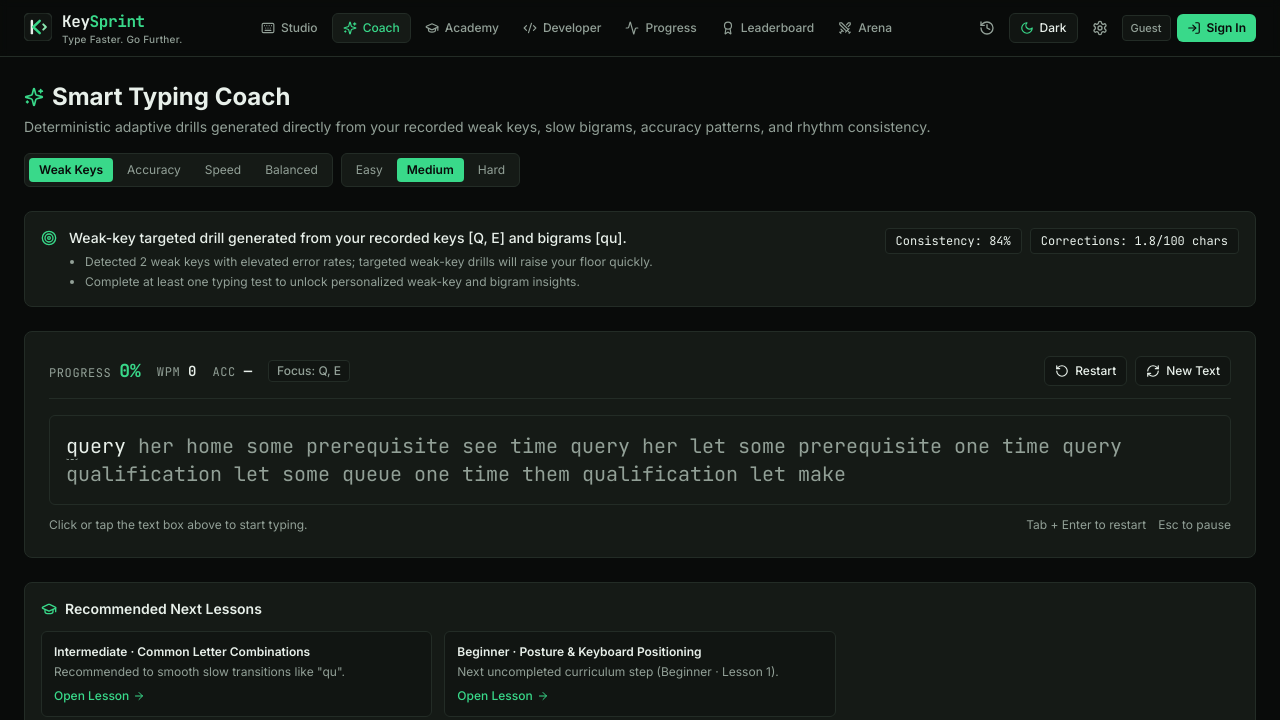
Test: Phase 4: Academy, Coach, Goals & Progress Intelligence › displays Smart Coach mode controls, common substitutions, and lesson recommendations
Expected: the button "Accuracy" is shown, [117, 158, 191, 182]
Expected: the heading "Recommended Next Lessons" is shown, [41, 600, 262, 617]
Click the button "Speed": (223, 170) [195, 158, 251, 182]
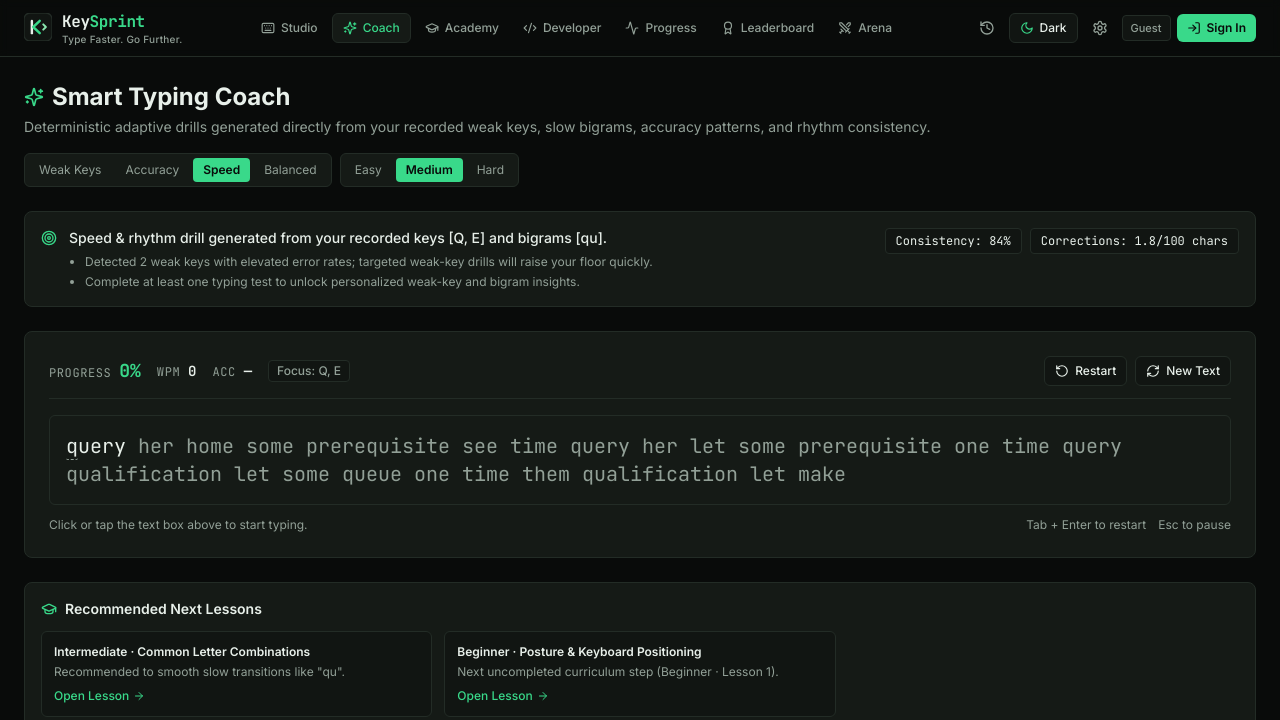
Expected: the text "Speed & rhythm drill" is shown, [69, 229, 607, 246]
